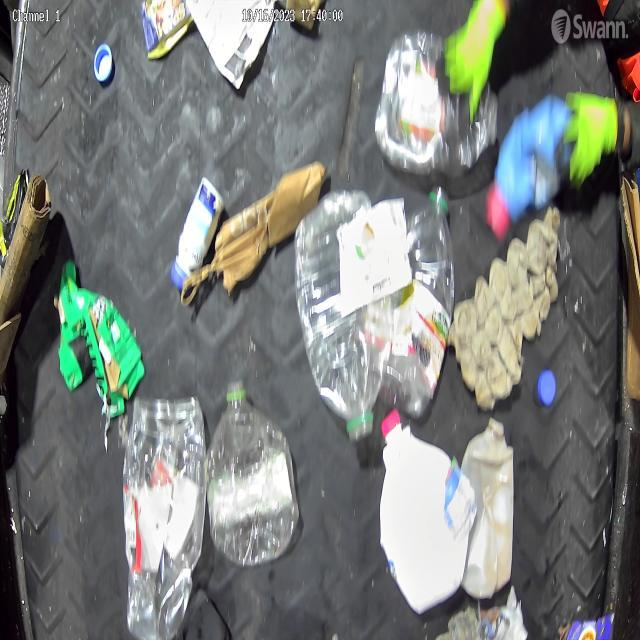milk_jug: (381, 409, 469, 604)
non_white_jug: (62, 261, 140, 413), (488, 93, 568, 229), (463, 412, 519, 595)
plastic_bottle: (296, 194, 392, 440), (207, 378, 293, 561), (381, 27, 494, 166), (396, 185, 450, 413)
